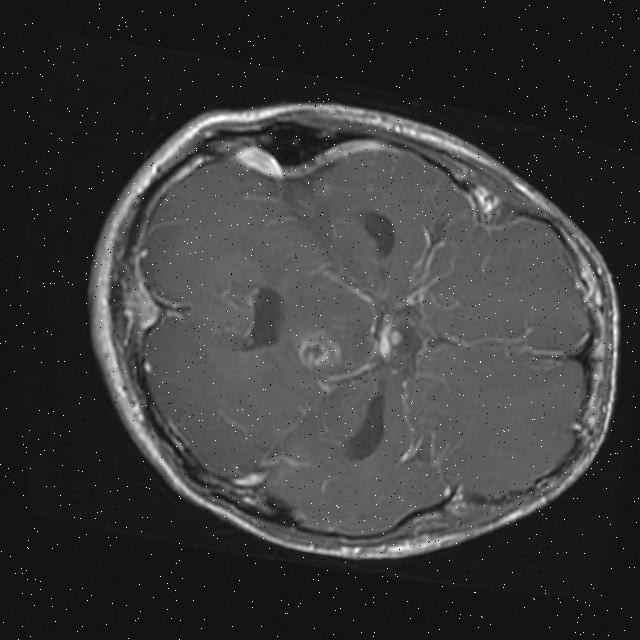Glioma: (291, 327, 347, 374)
